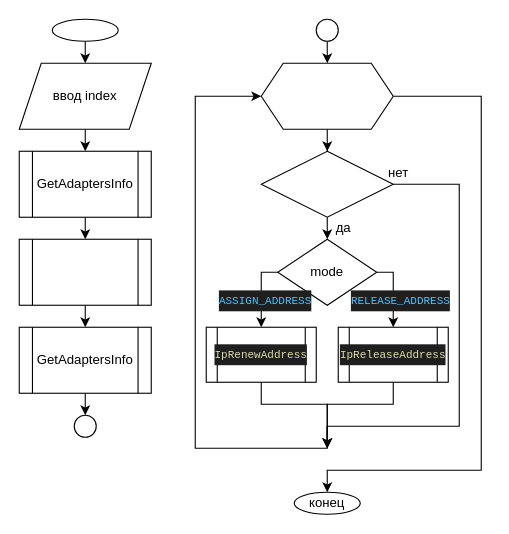
Image size: 509x534. Some labels were removed from this diagram. Each missing label, with the centre of its shape:
"GlobalAlloc" belongs at point 84,271.
"index равный индексу адаптера" belongs at point 326,183.
"начало" belongs at point 84,29.
"цикл по i с 0 до кол-ва адаптеров" belongs at point 326,95.
